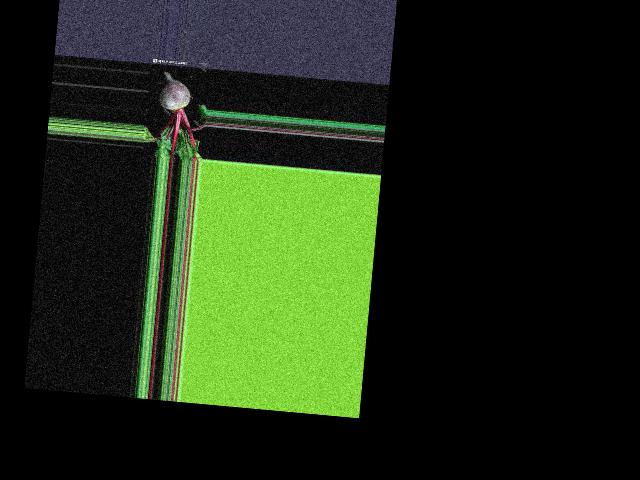beet: (142, 70, 210, 161)
